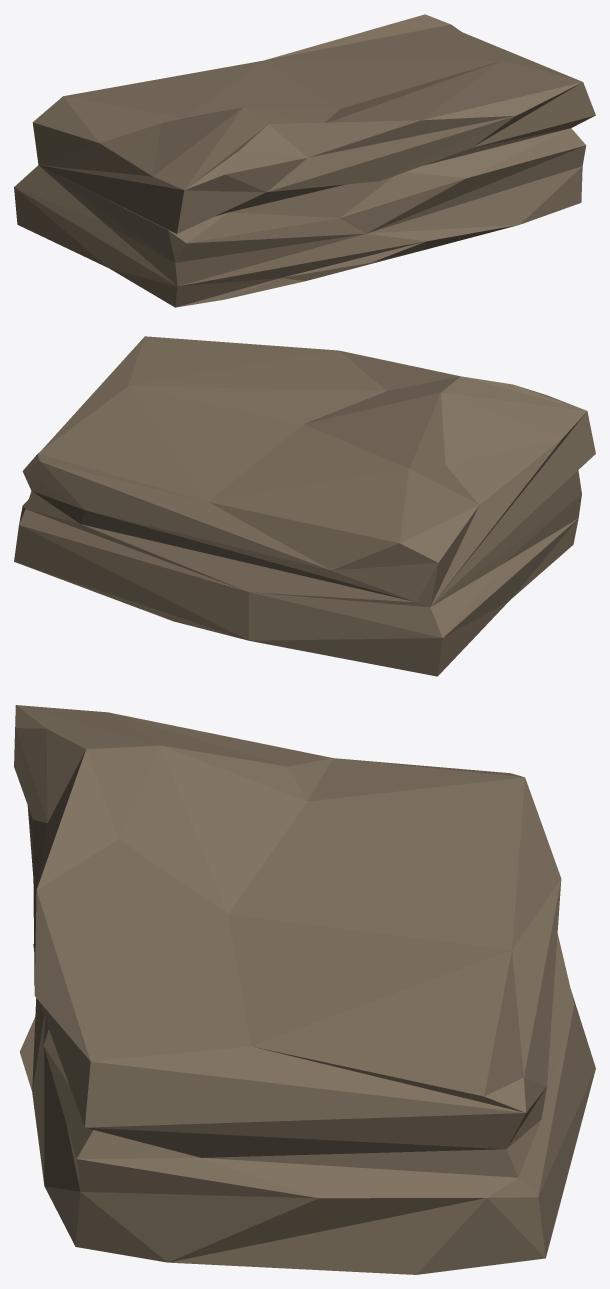
File: Stone_6_brown_mat.fbx
3 views of the same model, one above another, from view 1: azimuth 30°, elevation 25°; view 2: azimuth 150°, elevation 25°; view 3: azimuth 270°, elevation 25° (orthographic). The views are drawn at different scales.
Visible parts, largest first — view 1: Stone_6_brown_mat; view 2: Stone_6_brown_mat; view 3: Stone_6_brown_mat.
Boxes of the visible parts, <box> form: Stone_6_brown_mat: <box>14,14,595,307</box>; Stone_6_brown_mat: <box>14,336,595,676</box>; Stone_6_brown_mat: <box>14,705,595,1274</box>.
Size of the model in its own units: 243 by 91.38 by 167.
